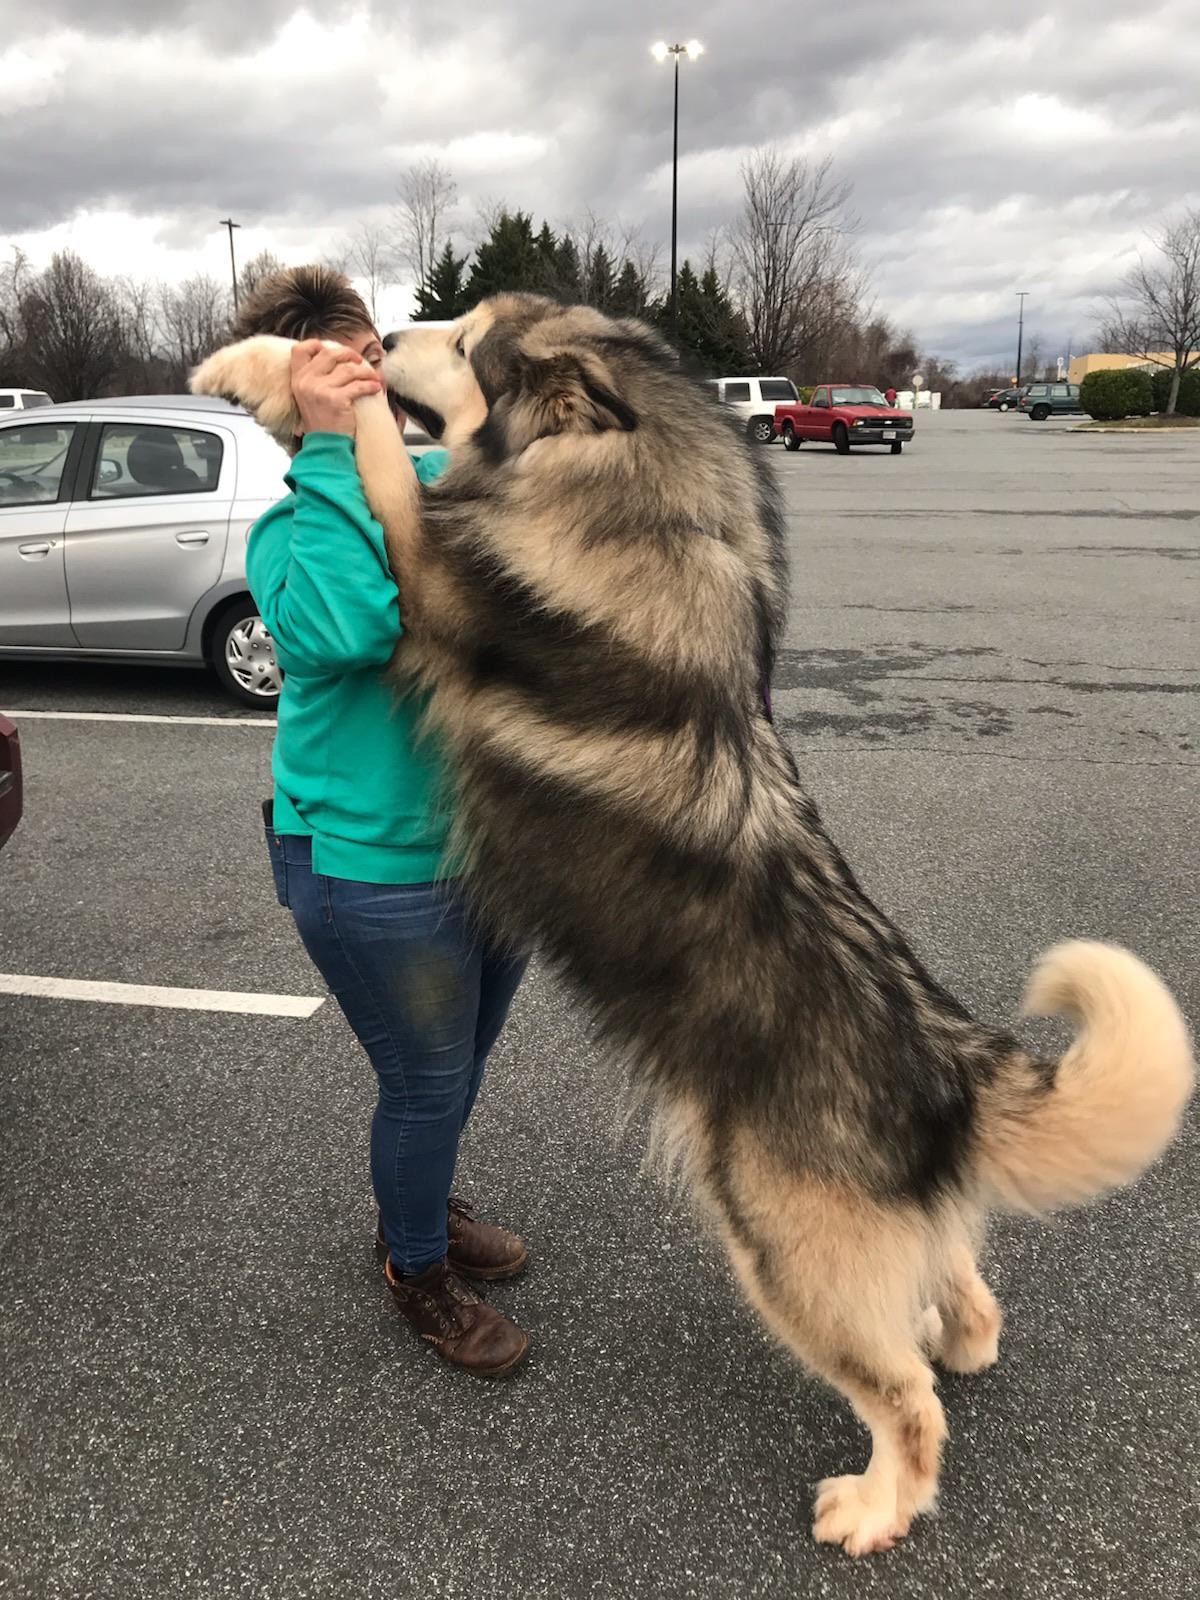Dog: (184, 204, 1158, 1576)
Person: (210, 241, 580, 1404)
